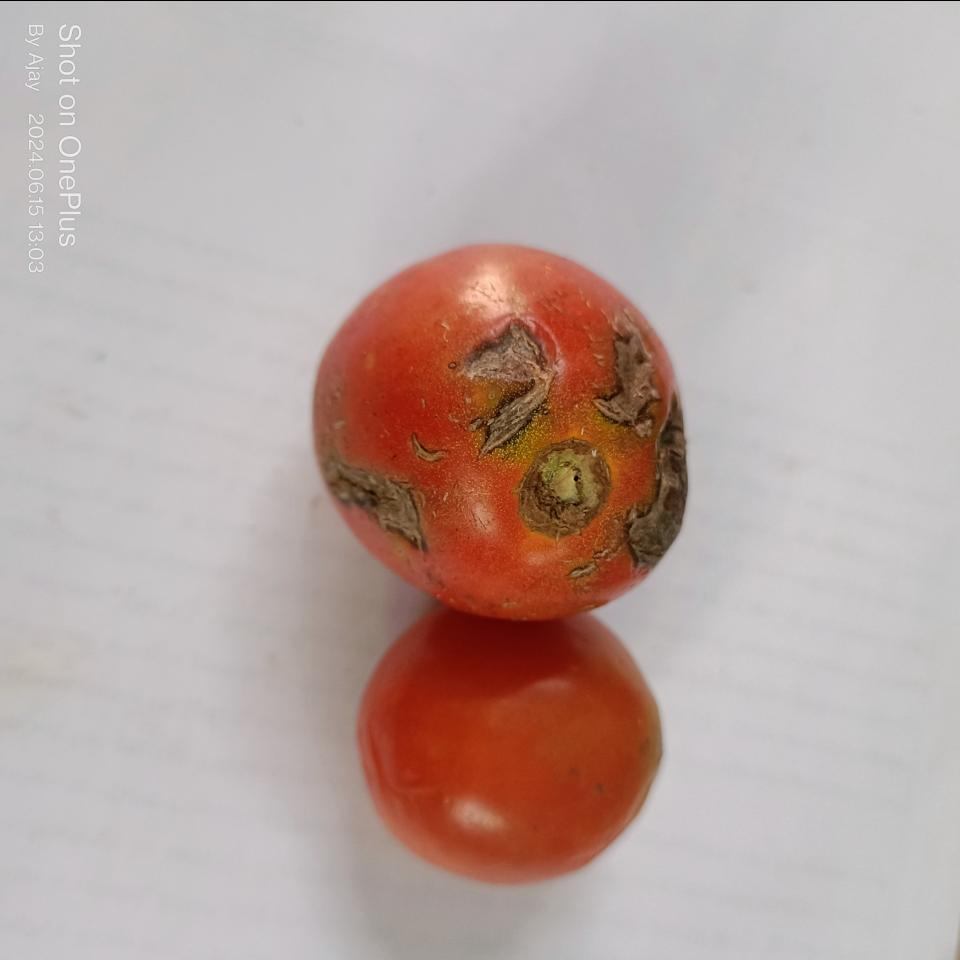Bacterial_Spot: (453, 314, 561, 454), (592, 313, 655, 423), (524, 466, 604, 536), (352, 470, 422, 536), (652, 430, 684, 542), (569, 562, 595, 575)
